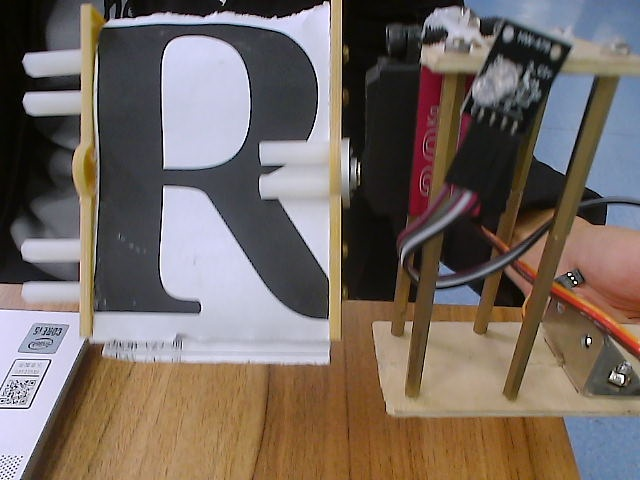R: (11, 1, 384, 430)
